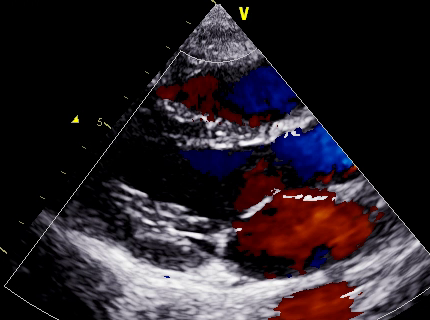AR: (221, 152, 308, 216)
